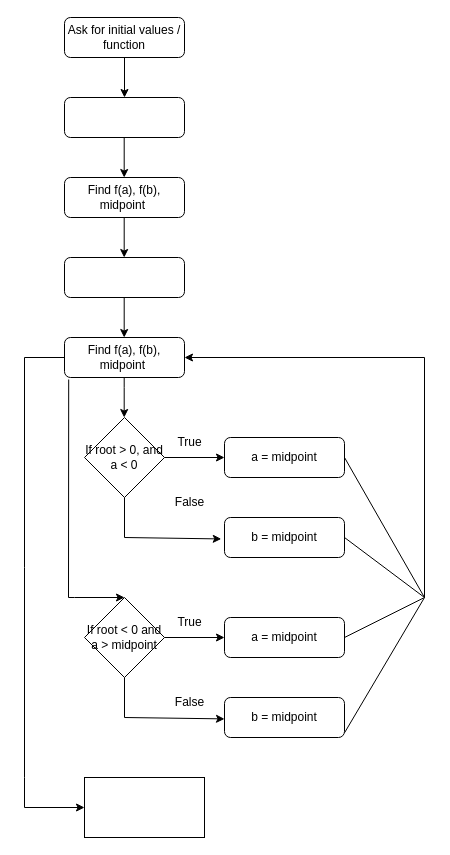
Image size: 450x855. Some labels were removed from this diagram. The shapes that lost their labels are listed below. From the top down, each one's centre as x and y in pixels, then its label:
pixel 124 117: def bisectionMethodProgram()
pixel 124 277: While f(b)-f(a) > tolerance
pixel 144 807: Print Final Values
